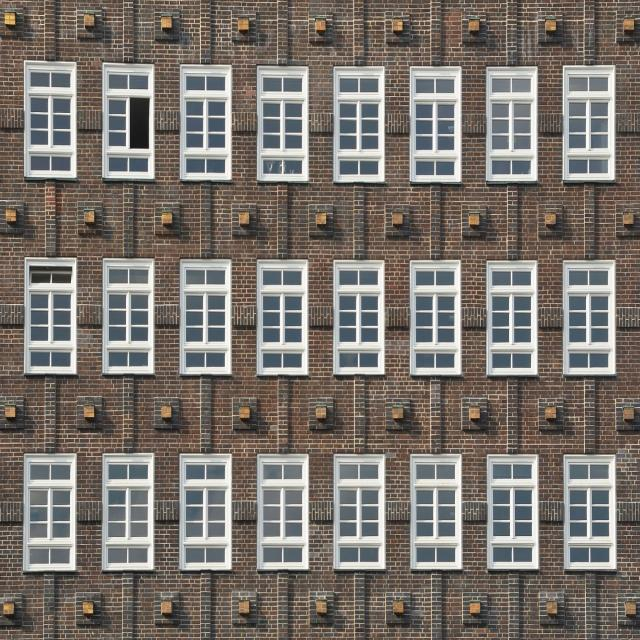Window: (24, 460, 74, 570), (260, 456, 308, 566), (182, 462, 230, 564), (488, 270, 532, 374), (108, 460, 152, 564), (414, 268, 456, 374), (566, 274, 612, 369), (493, 75, 536, 176), (568, 74, 612, 172), (492, 468, 535, 566), (29, 70, 70, 172), (30, 268, 74, 362), (340, 464, 379, 570), (414, 466, 457, 562), (108, 269, 150, 367), (187, 269, 230, 363), (263, 76, 302, 178), (339, 78, 378, 178), (264, 270, 304, 367), (338, 269, 379, 363), (186, 76, 226, 172), (416, 80, 456, 174), (572, 468, 609, 564), (110, 76, 130, 170)
